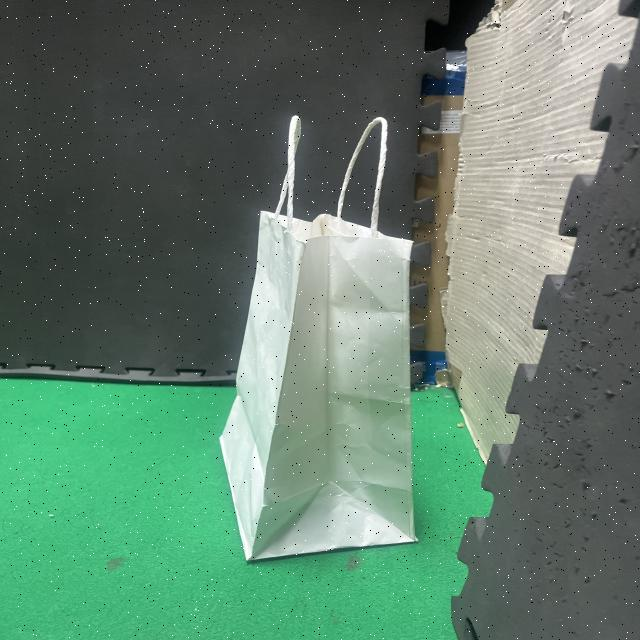paper bag: (182, 94, 450, 582)
